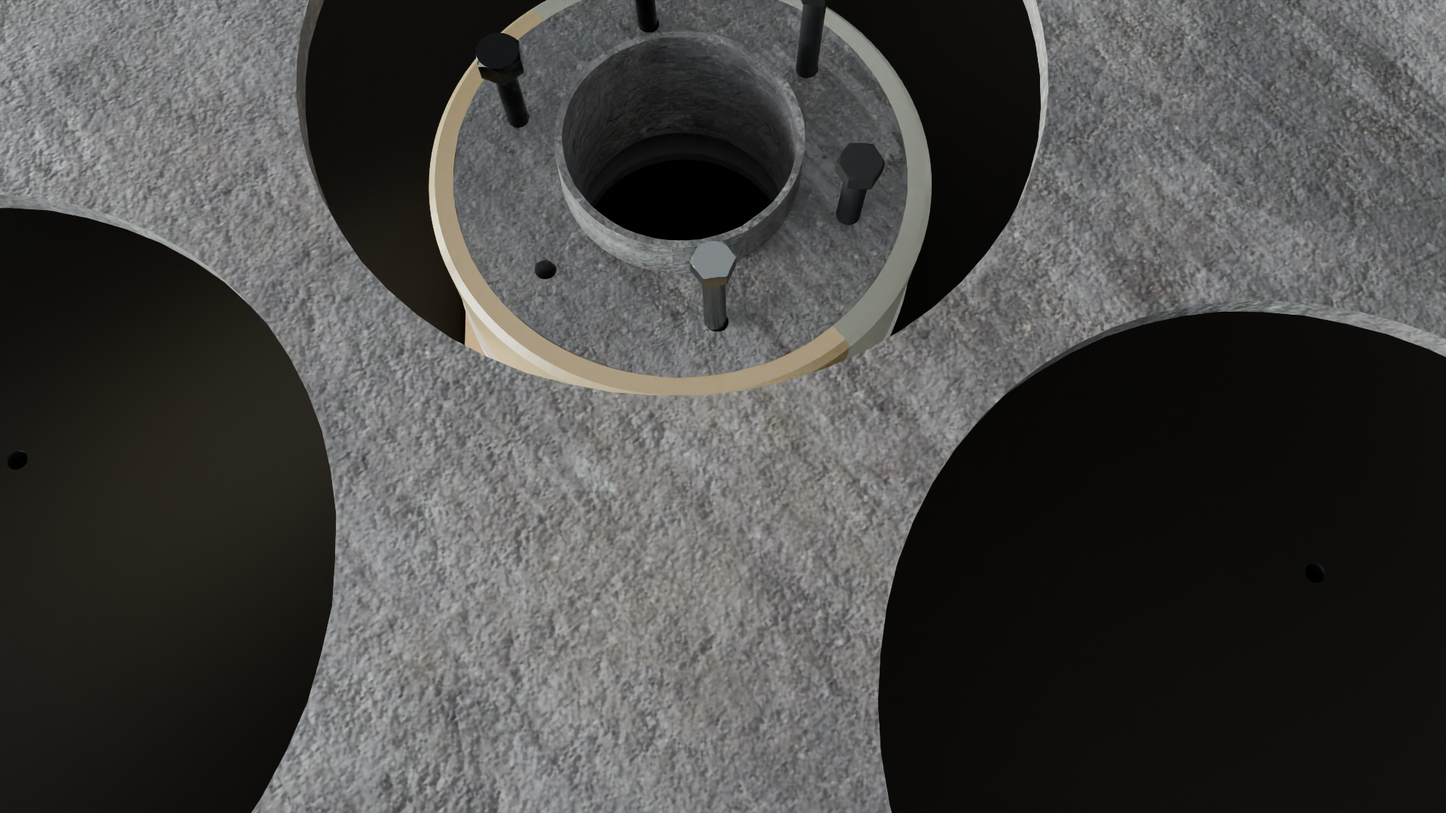bolt: (475, 32, 521, 75), (837, 143, 885, 181), (690, 241, 736, 280)
